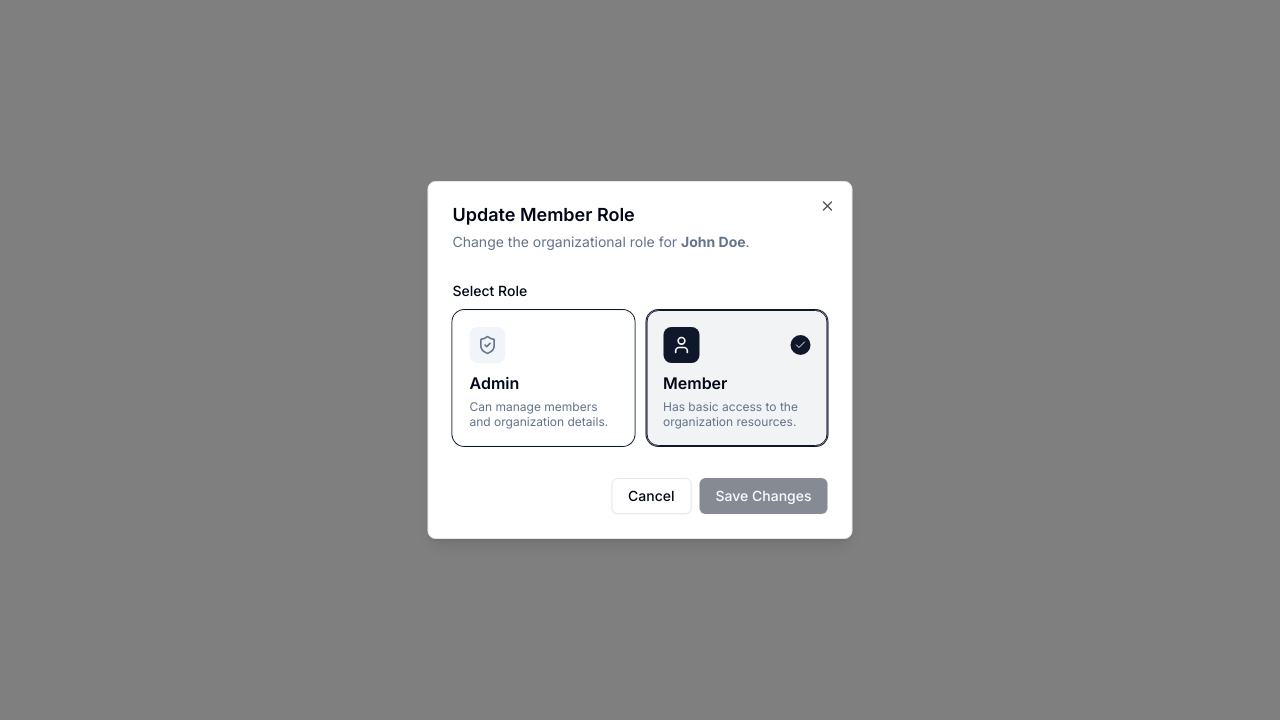
UpdateRoleDialog › should enable save button when role is changed
This screenshot has width=1280, height=720.
Expected: the button "Save Changes" is disabled, [700, 478, 828, 514]
Note: Click on Admin role
Click the text "Admin" at (494, 383), box [470, 373, 519, 393]
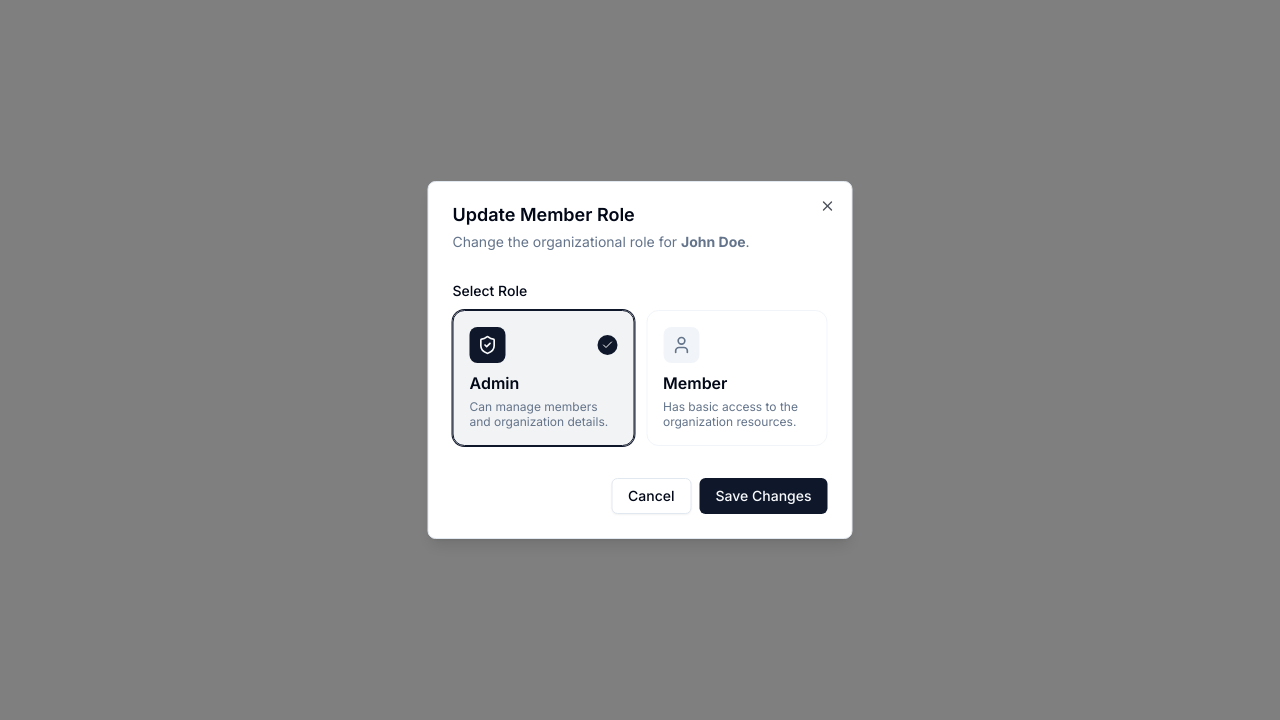
Expected: the button "Save Changes" is enabled, [700, 478, 828, 514]
